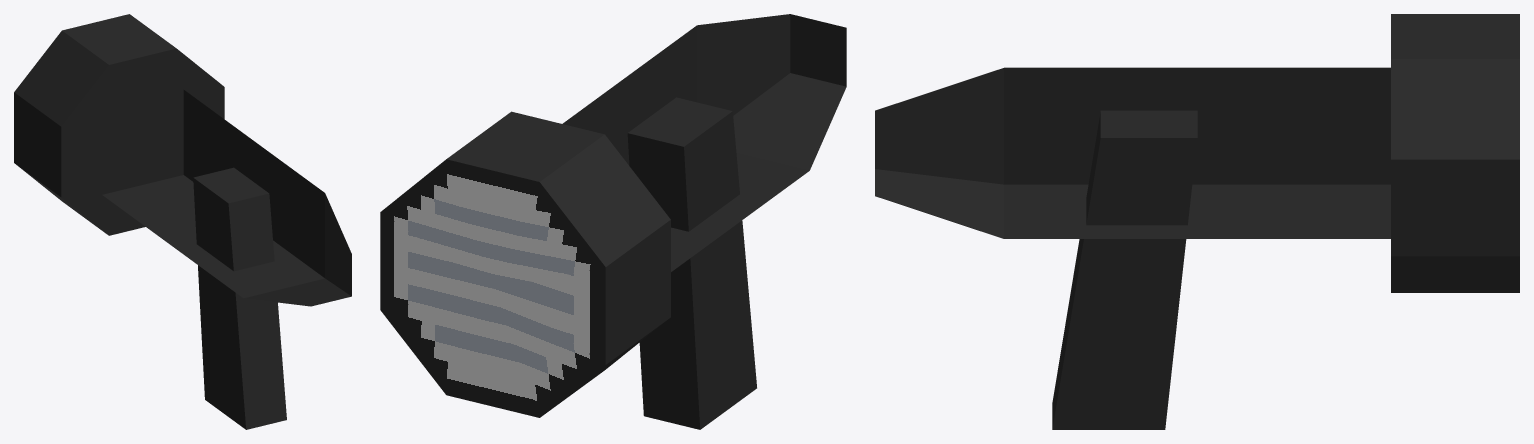
File: flashlight.gltf
3 views of the same model, side by side, from view 1: azimuth 30°, elevation 25°; view 2: azimuth 150°, elevation 25°; view 3: azimuth 270°, elevation 25° (orthographic). The views are drawn at different scales.
Parts seen in each view (by area): view 1: cuboid (×2), cylinder; view 2: cylinder, cuboid (×2); view 3: cuboid (×2), cylinder.
Part boxes in pixels (x1=…): cuboid (×2): x1=102, y1=90, x2=351, y2=429; cylinder: x1=14, y1=14, x2=224, y2=235; cylinder: x1=380, y1=111, x2=670, y2=417; cuboid (×2): x1=562, y1=14, x2=846, y2=429; cuboid (×2): x1=875, y1=67, x2=1390, y2=429; cylinder: x1=1391, y1=14, x2=1519, y2=292.
Size of the model in its own units: 0.1 by 0.1625 by 0.25.
1 material, 1 textured.
